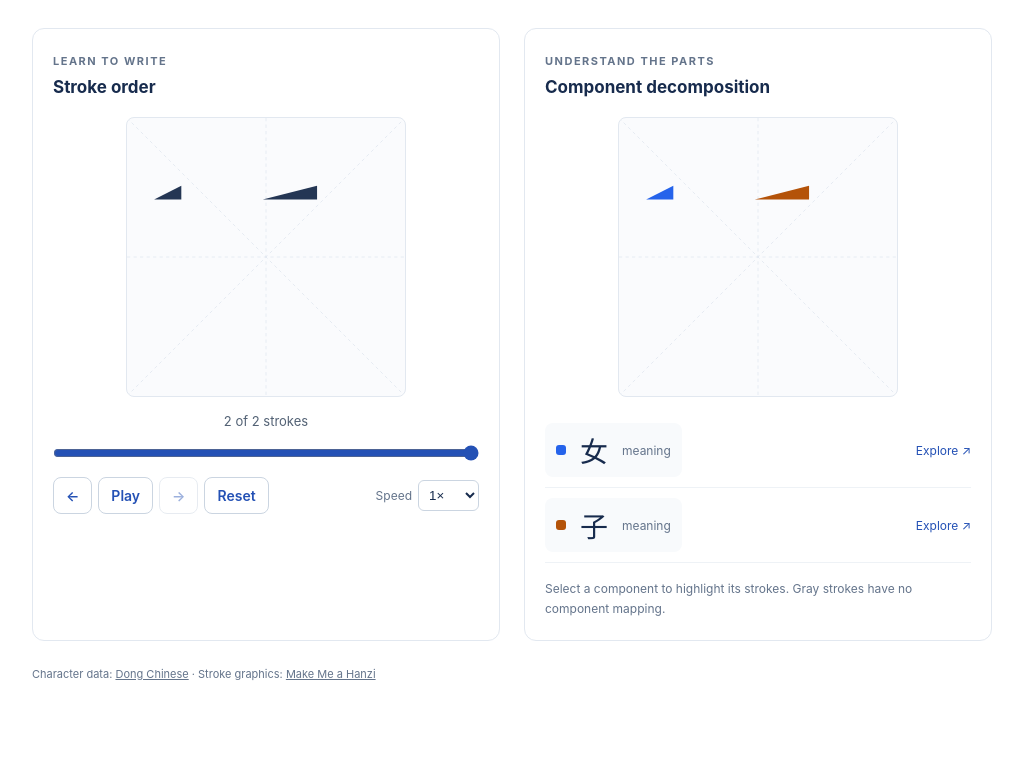
Scenario: steps, scrubs and resets the ordered stroke display
Check: the picture named "Stroke order for 好" is shown, box [126,117,406,397]
Check: the message reads "2 of 2 strokes", box [224,413,308,429]
Click the button "Reset" at (237, 496), box [204,477,269,514]
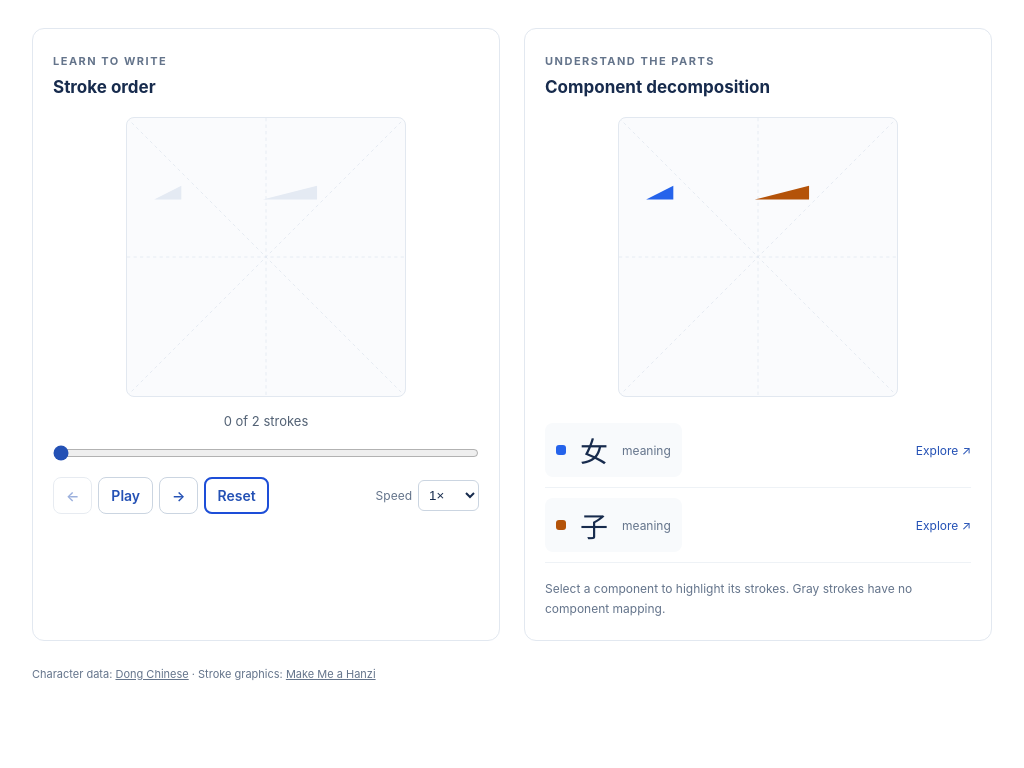
Check: the message reads "0 of 2 strokes", box [224,413,308,429]
Check: the button named "Previous stroke" is disabled, box [53,477,92,514]
Click the button named "Next stroke" at (179, 496), box [159,477,198,514]
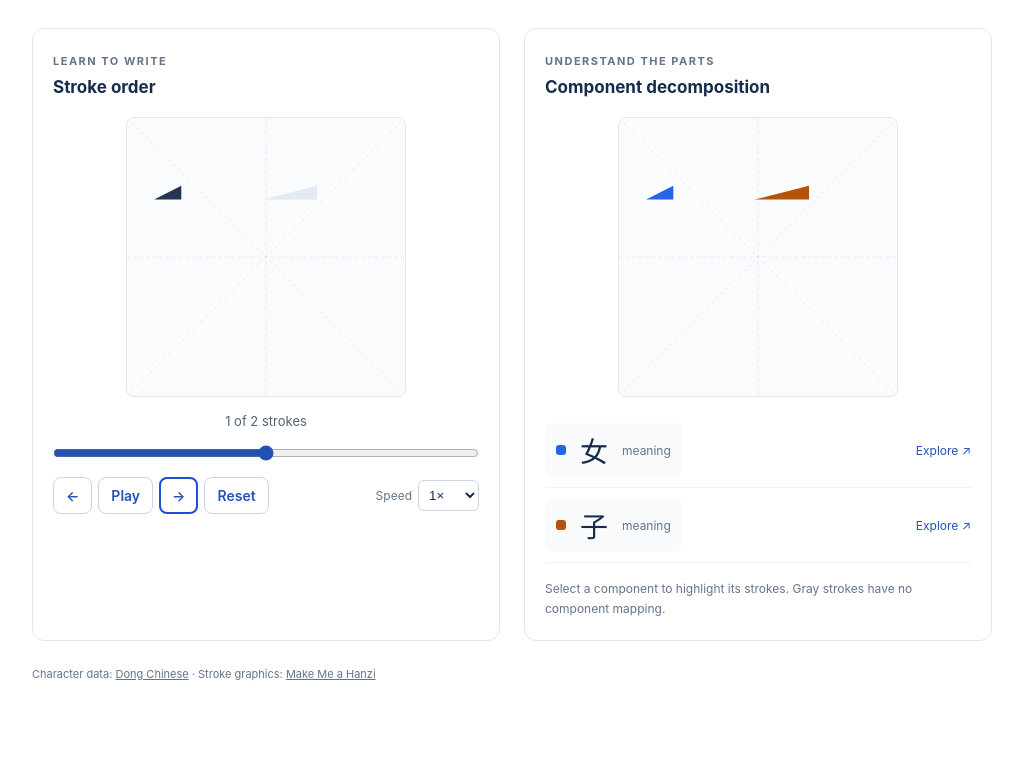
Check: the message reads "1 of 2 strokes", box [225,413,307,429]
Set the slider named "Stroke progress" to "2" at (471, 453), box [53,445,479,461]
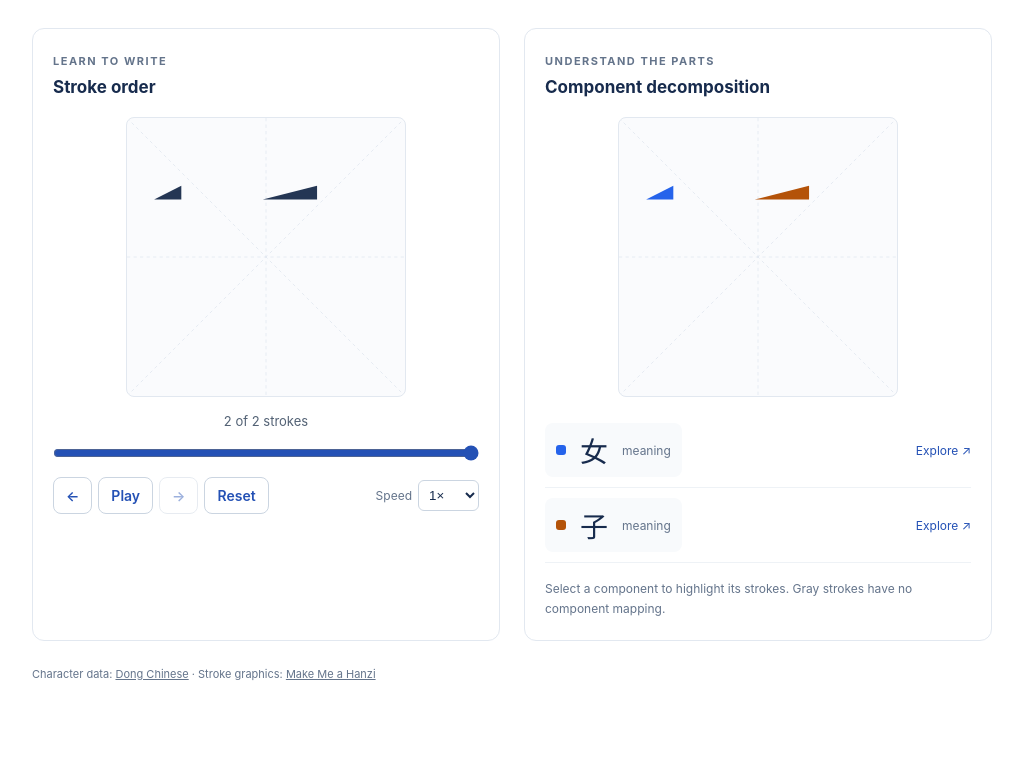
Check: the button named "Next stroke" is disabled, box [159,477,198,514]
